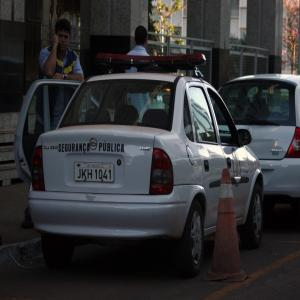Vehicle-registration-plate: (75, 163, 115, 182)
